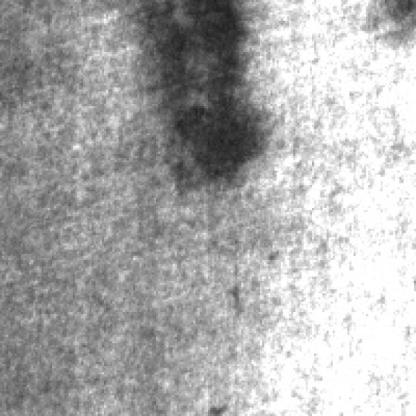patches: (148, 0, 260, 187)
